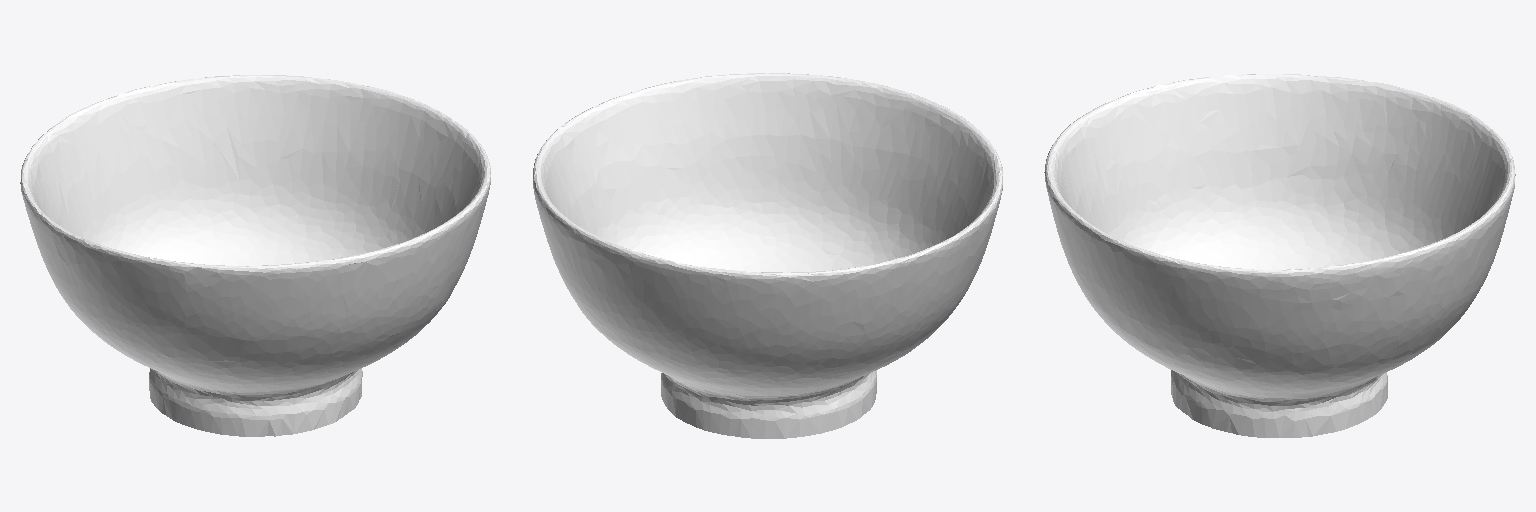
URDF robot description (6_chinese_ceramic_bowl_small_0):
<?xml version='1.0' encoding='utf-8'?>
<robot name="6_chinese_ceramic_bowl_small_0">
        <link name="link_0">
            <visual>
                <origin xyz="0.0 0.0 0.0" rpy="0.0 0.0 0.0" />
                <geometry>
                    <mesh filename="textured_objs/textured.obj" scale="1 1 1.0" />
                </geometry>
                <material name="white">
                    <color rgba="1 1 1 1" />
                </material>
            </visual>
            <collision>
                <origin xyz="0.0 0.0 0.0" rpy="0.0 0.0 0.0" />
                <geometry>
                    <mesh filename="textured_objs/textured.obj" scale="1 1 1.0" />
                </geometry>
            </collision>
            <inertial>
                <mass value="0.1" />
                <inertia ixx="0.0001" ixy="0.0" ixz="0.0" iyy="0.0001" iyz="0.0" izz="0.0001" />
            </inertial>
        </link>
    </robot>

--- Render facts (derived) ---
The picture shows the robot from 3 angles, left to right: view 1: azimuth 30°, elevation 25°; view 2: azimuth 150°, elevation 25°; view 3: azimuth 270°, elevation 25°; orthographic projection.
Model 6_chinese_ceramic_bowl_small_0 with 1 links and 0 joints (none), rooted at link_0, posed all joints at 0.
Links seen in each view (by area): view 1: link_0; view 2: link_0; view 3: link_0.
Boxes of the visible links, x1=… form: link_0: x1=20, y1=75, x2=490, y2=436; link_0: x1=533, y1=73, x2=1002, y2=438; link_0: x1=1044, y1=74, x2=1515, y2=437.
Size in the robot's own frame: 0.1284 by 0.1264 by 0.0669 metres.
1 mesh visuals loaded from 1 distinct referenced files (1 OBJ).